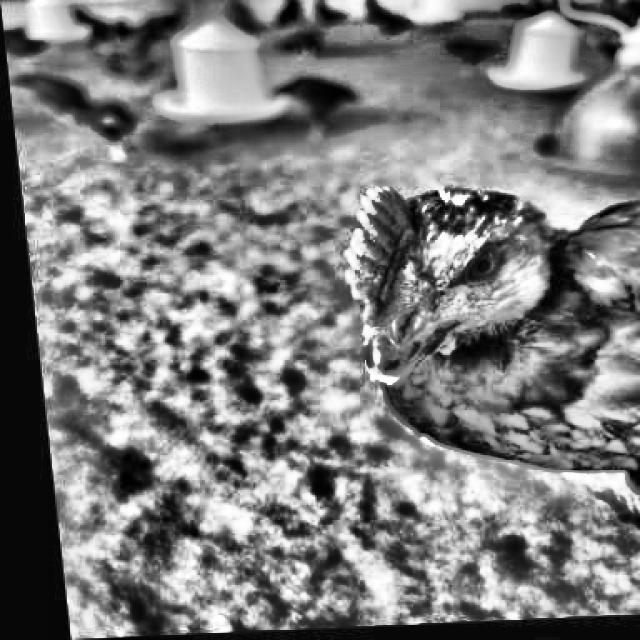Healthy: (445, 248, 520, 300)
